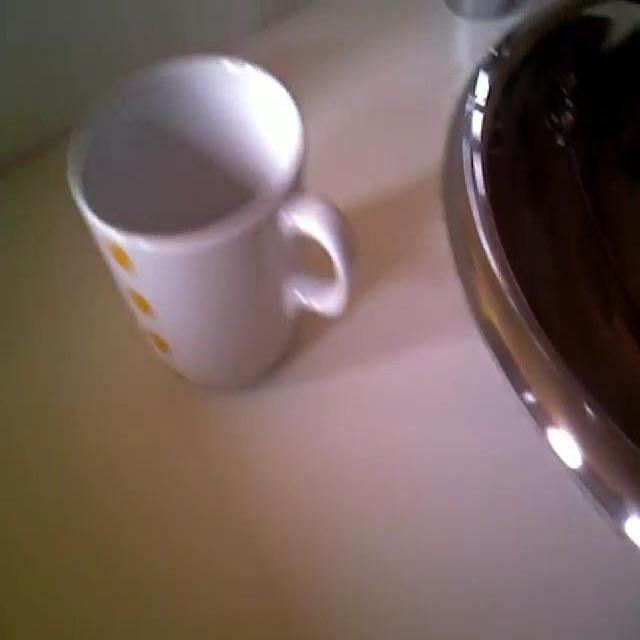cup: (62, 49, 364, 410)
